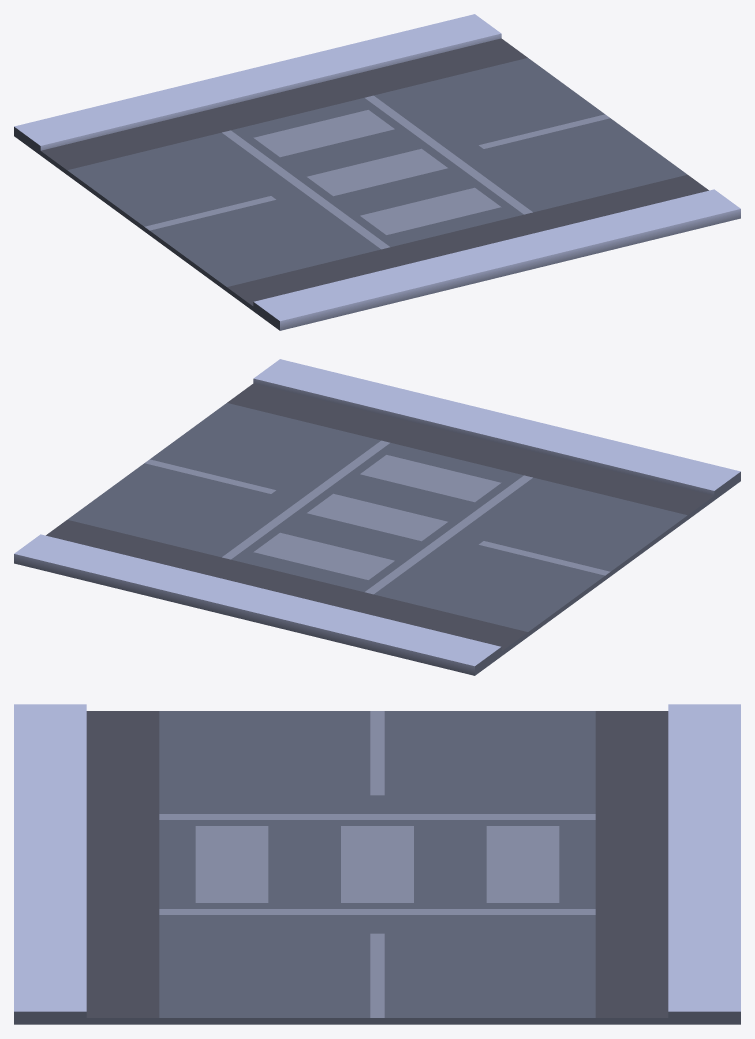
The model's file is road-crossing.glb.
3 renders of one model, top to bottom at view 1: azimuth 30°, elevation 25°; view 2: azimuth 150°, elevation 25°; view 3: azimuth 270°, elevation 25°, orthographic. The views are drawn at different scales.
Parts seen in each view (by area): view 1: road-crossing; view 2: road-crossing; view 3: road-crossing.
Boxes of the visible parts, x1,y1,x2,y2 form: road-crossing: (14, 14, 740, 330); road-crossing: (14, 359, 740, 675); road-crossing: (14, 704, 740, 1024).
Size of the model in its own units: 1 by 0.02 by 1.
Materials: 1 (1 with a texture image).
